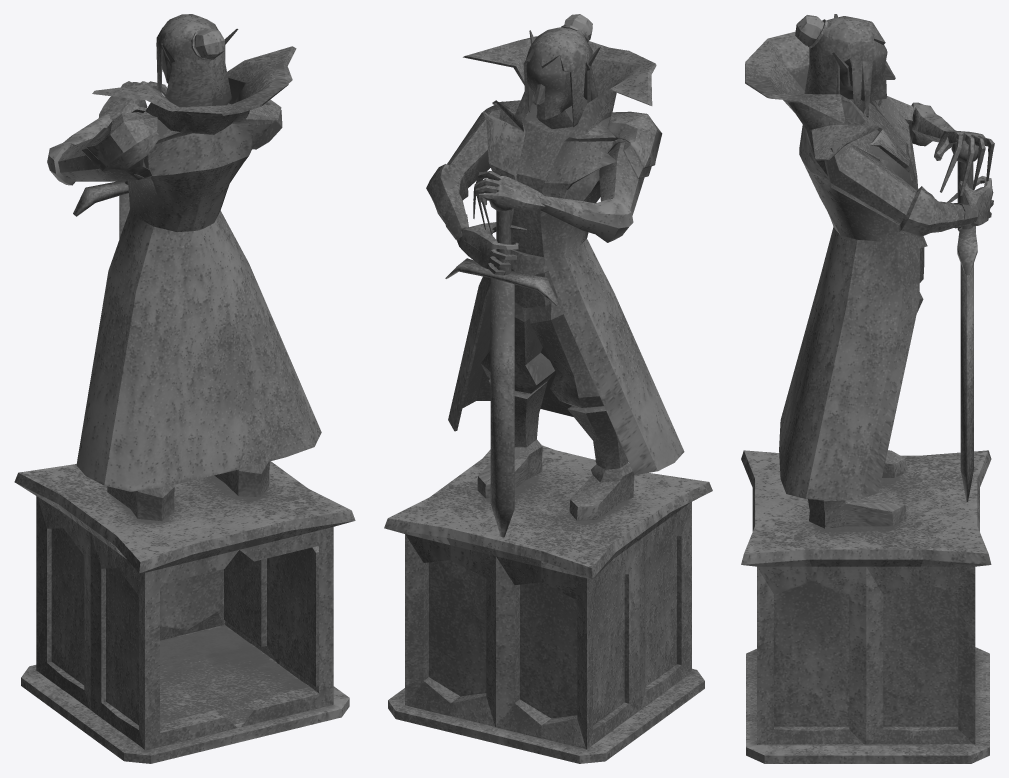
File: S_Statue.fbx
The picture shows the model from 3 angles, left to right: view 1: azimuth 30°, elevation 25°; view 2: azimuth 150°, elevation 25°; view 3: azimuth 270°, elevation 25°; orthographic projection. The views are drawn at different scales.
Parts seen in each view (by area): view 1: S_Statue; view 2: S_Statue; view 3: S_Statue.
Boxes of the visible parts, <box> form: S_Statue: <box>14,14,355,763</box>; S_Statue: <box>384,14,712,763</box>; S_Statue: <box>741,14,994,763</box>.
Bounding box in the file's own units: 104 × 300 × 99.86.
